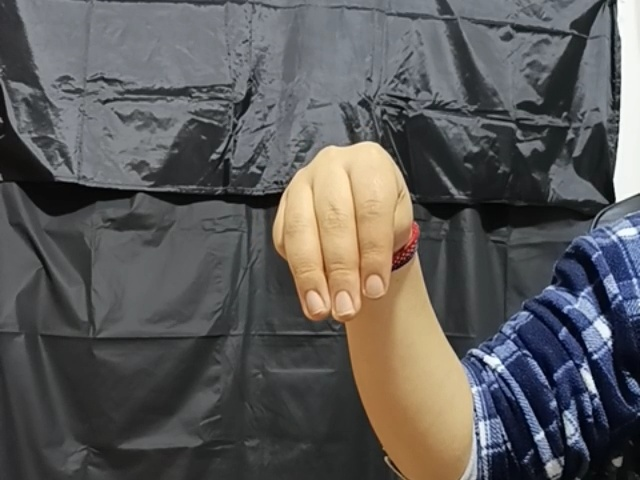M: (273, 142, 425, 330)
